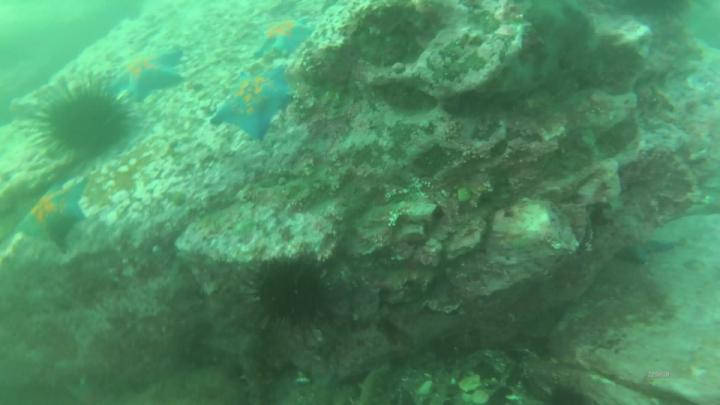echinus: (255, 259, 335, 325), (46, 95, 128, 149)
starfish: (212, 74, 292, 141), (21, 188, 87, 250), (113, 50, 186, 100), (258, 17, 310, 54), (616, 238, 680, 266)
